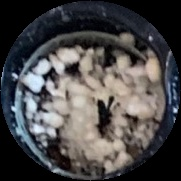Nothing: (0, 0, 181, 181)
